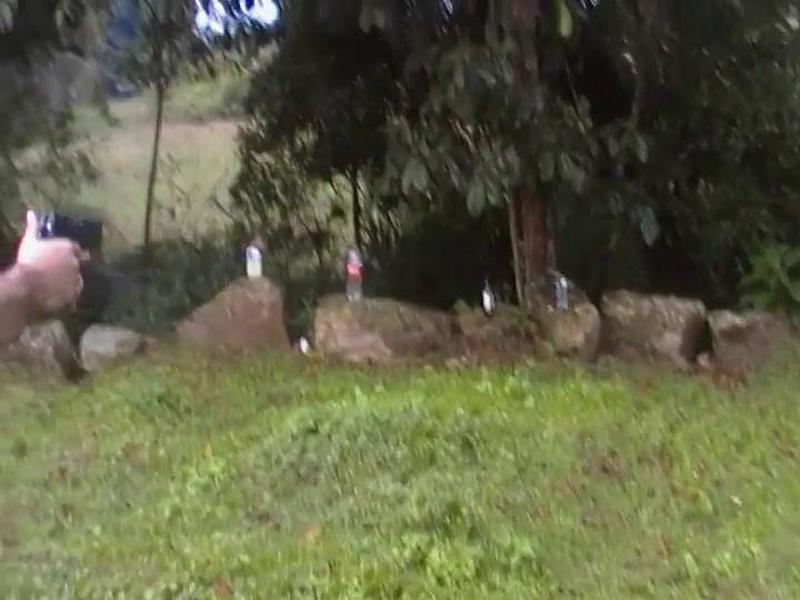Pistola: (2, 198, 107, 283)
